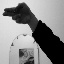h: (2, 1, 38, 25)
